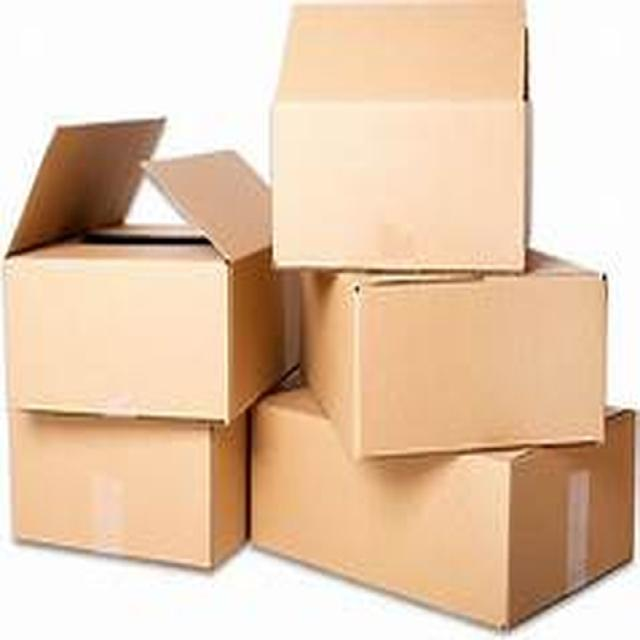box: (244, 363, 635, 634), (248, 24, 589, 289), (0, 145, 292, 451)
